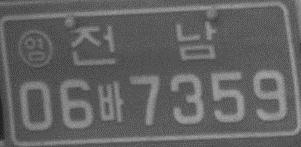0: (18, 80, 54, 131)
3: (169, 73, 203, 126)
5: (210, 71, 245, 124)
6: (59, 78, 94, 130)
7: (128, 74, 160, 126)
9: (252, 69, 288, 122)
바: (95, 81, 125, 123)
영: (17, 29, 53, 69)
전남_D: (69, 21, 216, 66)
